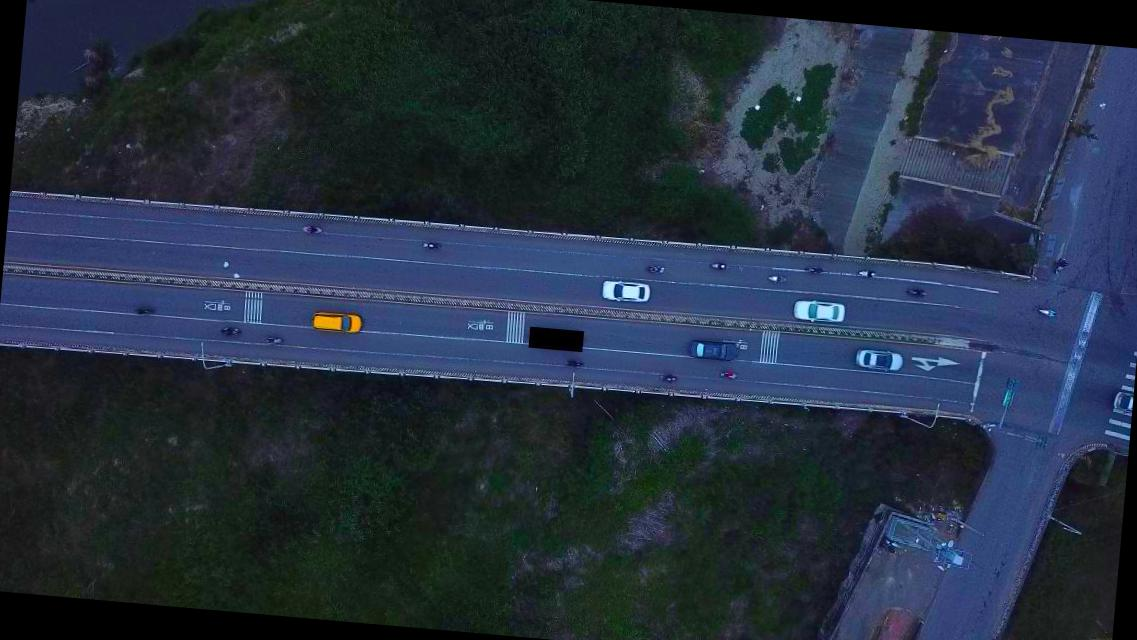vehicle: (792, 299, 846, 325), (598, 279, 652, 304), (310, 311, 364, 335), (854, 347, 903, 372), (688, 340, 740, 362)
